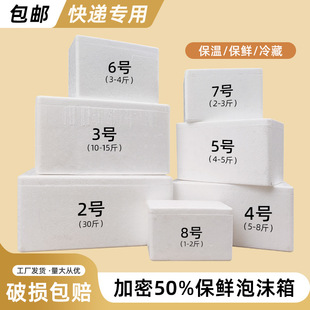Boxes: (18, 36, 292, 260)
